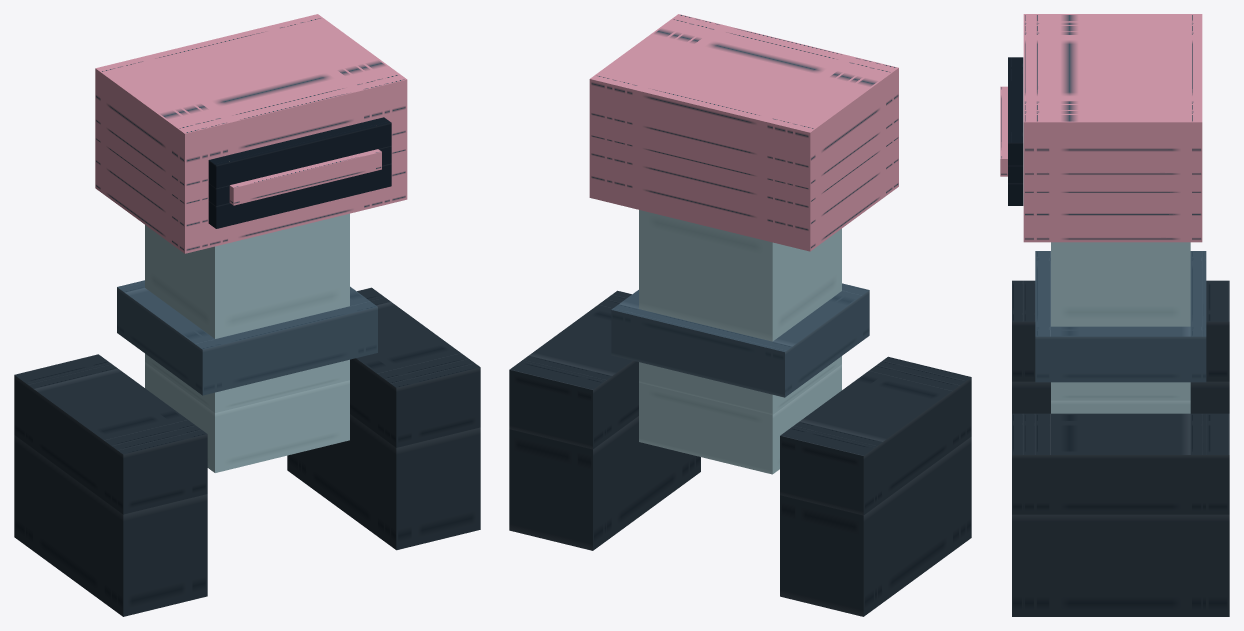
Rendered from sc_robot_spindle.obj.
3 views of the same model, side by side, from view 1: azimuth 30°, elevation 25°; view 2: azimuth 150°, elevation 25°; view 3: azimuth 270°, elevation 25° (orthographic).
Bounding box in the file's own units: 10.6 × 13.1 × 5.9.
Materials: 1 (1 with a texture image).
